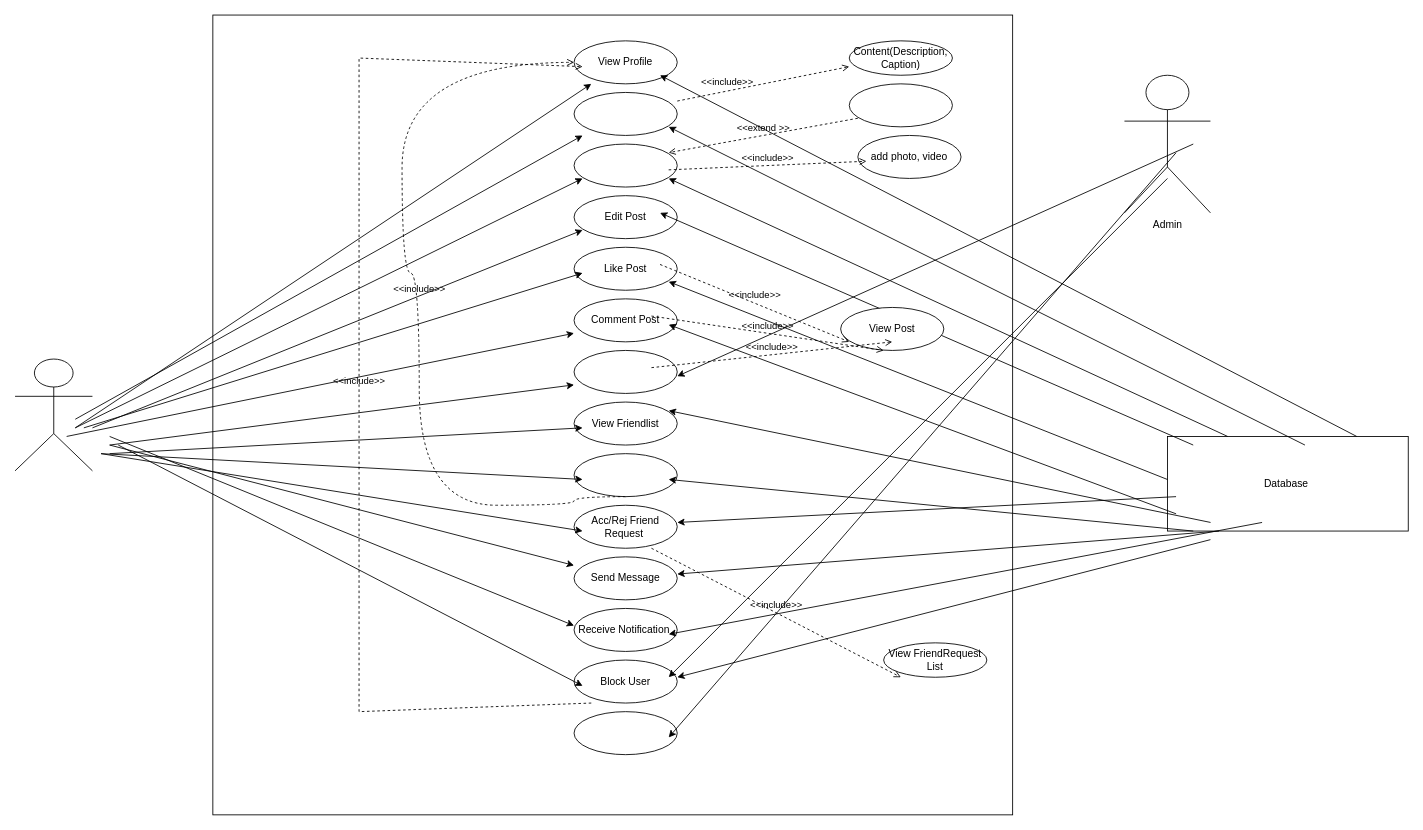
Image size: 1423x830. Some labels were removed from this diagram. Each missing label, with the centre of its shape:
"Create Post" goes at (625,165).
"Delete Post" goes at (625,371).
"Edit Profile" goes at (625,113).
"Manage Reports" goes at (625,733).
"Send Friend Request" goes at (625,475).
"Tag people, tag location" goes at (900,105).
"User" goes at (53,414).
